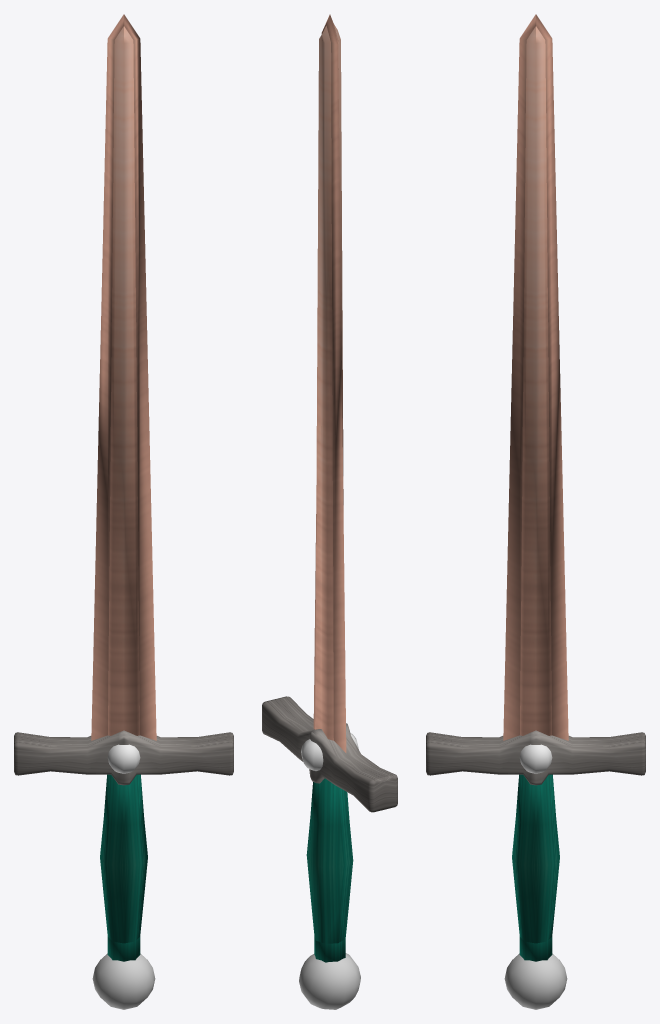
Rendered from SwordObject_3d_005.fbx.
3 views of the same model, side by side, from view 1: azimuth 90°, elevation 25°; view 2: azimuth 210°, elevation 25°; view 3: azimuth 270°, elevation 25° (orthographic).
Parts seen in each view (by area): view 1: Cylinder017, GeoSphere004, 球; view 2: Cylinder017, GeoSphere004, 球; view 3: Cylinder017, GeoSphere004, 球.
Part boxes in pixels (x1=…): Cylinder017: x1=14, y1=14, x2=233, y2=961; GeoSphere004: x1=92, y1=953, x2=155, y2=1009; 球: x1=107, y1=744, x2=140, y2=773; Cylinder017: x1=262, y1=14, x2=397, y2=962; GeoSphere004: x1=299, y1=953, x2=360, y2=1009; 球: x1=301, y1=733, x2=358, y2=770; Cylinder017: x1=426, y1=14, x2=645, y2=961; GeoSphere004: x1=504, y1=953, x2=567, y2=1009; 球: x1=519, y1=744, x2=552, y2=773.
Bounding box in the file's own units: 11.67 × 203 × 40.75.
